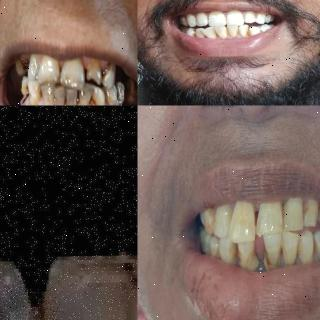calculus: (240, 249, 261, 275), (262, 250, 278, 273)
cavities: (0, 274, 92, 320), (100, 63, 116, 83), (19, 56, 29, 72)
maligned: (214, 25, 228, 39), (202, 25, 216, 38), (226, 25, 239, 37), (247, 25, 260, 37), (238, 23, 250, 34), (194, 27, 206, 38)
stains: (279, 198, 295, 230), (295, 238, 312, 268), (264, 239, 280, 270), (236, 242, 256, 266), (224, 241, 238, 267), (205, 205, 218, 232), (280, 239, 290, 267), (104, 86, 118, 105), (300, 201, 312, 223), (208, 241, 221, 260), (314, 237, 320, 266), (89, 93, 103, 105), (75, 89, 83, 105), (36, 88, 44, 104), (56, 61, 64, 75), (23, 83, 31, 96), (63, 94, 71, 106), (245, 30, 253, 38), (223, 28, 229, 38), (191, 28, 197, 38), (236, 28, 242, 36), (214, 31, 220, 38), (252, 14, 260, 19), (202, 33, 208, 39), (264, 13, 270, 19), (194, 16, 198, 23), (259, 30, 264, 34), (241, 16, 245, 20)
